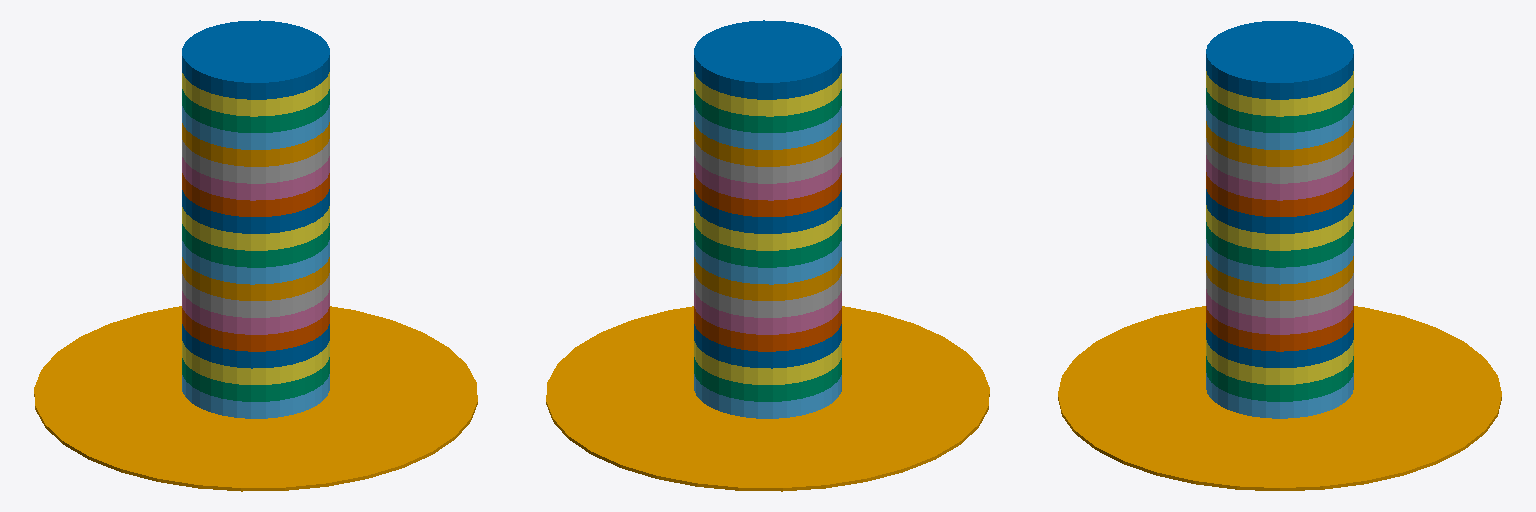
The robot description file, URDF, robot "2_pole":
<?xml version="1.0"?>

<robot name="2_pole">

    <!-- The base --> 
    <link name="base_link">
        <inertial>
            <origin xyz="0 0 0" rpy="0 0 0"/>
            <mass value="1"/>
            <inertia ixx="0.1" ixy="0.0" ixz="0.0" iyy="0.1" iyz="0.0" izz="0.1"/>
        </inertial>
        <visual>
            <origin xyz="0 0 0" rpy="0 0 0"/>
            <geometry>
                <cylinder length="0.01" radius="0.6"/>
            </geometry>
        </visual>
        <collision>
            <origin xyz="0 0 0" rpy="0 0 0"/>
            <geometry>
                <cylinder length="0.01" radius="0.6"/>
            </geometry>
        </collision>
    </link>

    <!-- 0 -->
    <link name="0_link">
        <inertial>
            <origin xyz="0 0 0" rpy="0 0 0"/>
            <mass value="1"/>
            <inertia ixx="0.01" ixy="0.0" ixz="0.0" iyy="0.01" iyz="0.0" izz="0.01"/>
        </inertial>
        <visual>
            <origin xyz="0 0 0" rpy="0 0 0"/>
            <geometry>
                <cylinder length="0.05" radius="0.2"/>
            </geometry>
        </visual>
        <collision>
            <origin xyz="0 0 0" rpy="0 0 0"/>
            <geometry>
                <cylinder length="0.05" radius="0.2"/>
            </geometry>
        </collision>
    </link>

    <!-- Joint from base to 0 -->
    <joint name="base_0_joint" type="fixed">
        <parent link="base_link"/>
        <child link="0_link"/>
        <origin xyz="0 0 0.05" rpy="0 0 0"/>
    </joint>

    <!-- 1 -->
    <link name="1_link">
        <inertial>
            <origin xyz="0 0 0" rpy="0 0 0"/>
            <mass value="1"/>
            <inertia ixx="0.01" ixy="0.0" ixz="0.0" iyy="0.01" iyz="0.0" izz="0.01"/>
        </inertial>
        <visual>
            <origin xyz="0 0 0" rpy="0 0 0"/>
            <geometry>
                <cylinder length="0.05" radius="0.2"/>
            </geometry>
        </visual>
        <collision>
            <origin xyz="0 0 0" rpy="0 0 0"/>
            <geometry>
                <cylinder length="0.05" radius="0.2"/>
            </geometry>
        </collision>
    </link>

    <!-- Joint from 0 to 1 -->
    <joint name="0_1_joint" type="fixed">
        <parent link="0_link"/>
        <child link="1_link"/>
        <origin xyz="0 0 0.05" rpy="0 0 0"/>
    </joint>

    <!-- 2 -->
    <link name="2_link">
        <inertial>
            <origin xyz="0 0 0" rpy="0 0 0"/>
            <mass value="1"/>
            <inertia ixx="0.01" ixy="0.0" ixz="0.0" iyy="0.01" iyz="0.0" izz="0.01"/>
        </inertial>
        <visual>
            <origin xyz="0 0 0" rpy="0 0 0"/>
            <geometry>
                <cylinder length="0.05" radius="0.2"/>
            </geometry>
        </visual>
        <collision>
            <origin xyz="0 0 0" rpy="0 0 0"/>
            <geometry>
                <cylinder length="0.05" radius="0.2"/>
            </geometry>
        </collision>
    </link>

    <!-- Joint from 1 to 2 -->
    <joint name="1_2_joint" type="fixed">
        <parent link="1_link"/>
        <child link="2_link"/>
        <origin xyz="0 0 0.05" rpy="0 0 0"/>
    </joint>

    <!-- 3 -->
    <link name="3_link">
        <inertial>
            <origin xyz="0 0 0" rpy="0 0 0"/>
            <mass value="1"/>
            <inertia ixx="0.01" ixy="0.0" ixz="0.0" iyy="0.01" iyz="0.0" izz="0.01"/>
        </inertial>
        <visual>
            <origin xyz="0 0 0" rpy="0 0 0"/>
            <geometry>
                <cylinder length="0.05" radius="0.2"/>
            </geometry>
        </visual>
        <collision>
            <origin xyz="0 0 0" rpy="0 0 0"/>
            <geometry>
                <cylinder length="0.05" radius="0.2"/>
            </geometry>
        </collision>
    </link>

    <!-- Joint from 2 to 3 -->
    <joint name="2_3_joint" type="fixed">
        <parent link="2_link"/>
        <child link="3_link"/>
        <origin xyz="0 0 0.05" rpy="0 0 0"/>
    </joint>

    <!-- 4 -->
    <link name="4_link">
        <inertial>
            <origin xyz="0 0 0" rpy="0 0 0"/>
            <mass value="1"/>
            <inertia ixx="0.01" ixy="0.0" ixz="0.0" iyy="0.01" iyz="0.0" izz="0.01"/>
        </inertial>
        <visual>
            <origin xyz="0 0 0" rpy="0 0 0"/>
            <geometry>
                <cylinder length="0.05" radius="0.2"/>
            </geometry>
        </visual>
        <collision>
            <origin xyz="0 0 0" rpy="0 0 0"/>
            <geometry>
                <cylinder length="0.05" radius="0.2"/>
            </geometry>
        </collision>
    </link>

    <!-- Joint from 3 to 4 -->
    <joint name="3_4_joint" type="fixed">
        <parent link="3_link"/>
        <child link="4_link"/>
        <origin xyz="0 0 0.05" rpy="0 0 0"/>
    </joint>

    <!-- 5 -->
    <link name="5_link">
        <inertial>
            <origin xyz="0 0 0" rpy="0 0 0"/>
            <mass value="1"/>
            <inertia ixx="0.01" ixy="0.0" ixz="0.0" iyy="0.01" iyz="0.0" izz="0.01"/>
        </inertial>
        <visual>
            <origin xyz="0 0 0" rpy="0 0 0"/>
            <geometry>
                <cylinder length="0.05" radius="0.2"/>
            </geometry>
        </visual>
        <collision>
            <origin xyz="0 0 0" rpy="0 0 0"/>
            <geometry>
                <cylinder length="0.05" radius="0.2"/>
            </geometry>
        </collision>
    </link>

    <!-- Joint from 4 to 5 -->
    <joint name="4_5_joint" type="fixed">
        <parent link="4_link"/>
        <child link="5_link"/>
        <origin xyz="0 0 0.05" rpy="0 0 0"/>
    </joint>

    <!-- 6 -->
    <link name="6_link">
        <inertial>
            <origin xyz="0 0 0" rpy="0 0 0"/>
            <mass value="1"/>
            <inertia ixx="0.01" ixy="0.0" ixz="0.0" iyy="0.01" iyz="0.0" izz="0.01"/>
        </inertial>
        <visual>
            <origin xyz="0 0 0" rpy="0 0 0"/>
            <geometry>
                <cylinder length="0.05" radius="0.2"/>
            </geometry>
        </visual>
        <collision>
            <origin xyz="0 0 0" rpy="0 0 0"/>
            <geometry>
                <cylinder length="0.05" radius="0.2"/>
            </geometry>
        </collision>
    </link>

    <!-- Joint from 5 to 6 -->
    <joint name="5_6_joint" type="fixed">
        <parent link="5_link"/>
        <child link="6_link"/>
        <origin xyz="0 0 0.05" rpy="0 0 0"/>
    </joint>

    <!-- 7 -->
    <link name="7_link">
        <inertial>
            <origin xyz="0 0 0" rpy="0 0 0"/>
            <mass value="1"/>
            <inertia ixx="0.01" ixy="0.0" ixz="0.0" iyy="0.01" iyz="0.0" izz="0.01"/>
        </inertial>
        <visual>
            <origin xyz="0 0 0" rpy="0 0 0"/>
            <geometry>
                <cylinder length="0.05" radius="0.2"/>
            </geometry>
        </visual>
        <collision>
            <origin xyz="0 0 0" rpy="0 0 0"/>
            <geometry>
                <cylinder length="0.05" radius="0.2"/>
            </geometry>
        </collision>
    </link>

    <!-- Joint from 6 to 7 -->
    <joint name="6_7_joint" type="fixed">
        <parent link="6_link"/>
        <child link="7_link"/>
        <origin xyz="0 0 0.05" rpy="0 0 0"/>
    </joint>

    <!-- 8 -->
    <link name="8_link">
        <inertial>
            <origin xyz="0 0 0" rpy="0 0 0"/>
            <mass value="1"/>
            <inertia ixx="0.01" ixy="0.0" ixz="0.0" iyy="0.01" iyz="0.0" izz="0.01"/>
        </inertial>
        <visual>
            <origin xyz="0 0 0" rpy="0 0 0"/>
            <geometry>
                <cylinder length="0.05" radius="0.2"/>
            </geometry>
        </visual>
        <collision>
            <origin xyz="0 0 0" rpy="0 0 0"/>
            <geometry>
                <cylinder length="0.05" radius="0.2"/>
            </geometry>
        </collision>
    </link>

    <!-- Joint from 7 to 8 -->
    <joint name="7_8_joint" type="fixed">
        <parent link="7_link"/>
        <child link="8_link"/>
        <origin xyz="0 0 0.05" rpy="0 0 0"/>
    </joint>

    <!-- 9 -->
    <link name="9_link">
        <inertial>
            <origin xyz="0 0 0" rpy="0 0 0"/>
            <mass value="1"/>
            <inertia ixx="0.01" ixy="0.0" ixz="0.0" iyy="0.01" iyz="0.0" izz="0.01"/>
        </inertial>
        <visual>
            <origin xyz="0 0 0" rpy="0 0 0"/>
            <geometry>
                <cylinder length="0.05" radius="0.2"/>
            </geometry>
        </visual>
        <collision>
            <origin xyz="0 0 0" rpy="0 0 0"/>
            <geometry>
                <cylinder length="0.05" radius="0.2"/>
            </geometry>
        </collision>
    </link>

    <!-- Joint from 8 to 9 -->
    <joint name="8_9_joint" type="fixed">
        <parent link="8_link"/>
        <child link="9_link"/>
        <origin xyz="0 0 0.05" rpy="0 0 0"/>
    </joint>

    <!-- 10 -->
    <link name="10_link">
        <inertial>
            <origin xyz="0 0 0" rpy="0 0 0"/>
            <mass value="1"/>
            <inertia ixx="0.01" ixy="0.0" ixz="0.0" iyy="0.01" iyz="0.0" izz="0.01"/>
        </inertial>
        <visual>
            <origin xyz="0 0 0" rpy="0 0 0"/>
            <geometry>
                <cylinder length="0.05" radius="0.2"/>
            </geometry>
        </visual>
        <collision>
            <origin xyz="0 0 0" rpy="0 0 0"/>
            <geometry>
                <cylinder length="0.05" radius="0.2"/>
            </geometry>
        </collision>
    </link>

    <!-- Joint from 9 to 10 -->
    <joint name="9_10_joint" type="fixed">
        <parent link="9_link"/>
        <child link="10_link"/>
        <origin xyz="0 0 0.05" rpy="0 0 0"/>
    </joint>

    <!-- 11 -->
    <link name="11_link">
        <inertial>
            <origin xyz="0 0 0" rpy="0 0 0"/>
            <mass value="1"/>
            <inertia ixx="0.01" ixy="0.0" ixz="0.0" iyy="0.01" iyz="0.0" izz="0.01"/>
        </inertial>
        <visual>
            <origin xyz="0 0 0" rpy="0 0 0"/>
            <geometry>
                <cylinder length="0.05" radius="0.2"/>
            </geometry>
        </visual>
        <collision>
            <origin xyz="0 0 0" rpy="0 0 0"/>
            <geometry>
                <cylinder length="0.05" radius="0.2"/>
            </geometry>
        </collision>
    </link>

    <!-- Joint from 10 to 11 -->
    <joint name="10_11_joint" type="fixed">
        <parent link="10_link"/>
        <child link="11_link"/>
        <origin xyz="0 0 0.05" rpy="0 0 0"/>
    </joint>

    <!-- 12 -->
    <link name="12_link">
        <inertial>
            <origin xyz="0 0 0" rpy="0 0 0"/>
            <mass value="1"/>
            <inertia ixx="0.01" ixy="0.0" ixz="0.0" iyy="0.01" iyz="0.0" izz="0.01"/>
        </inertial>
        <visual>
            <origin xyz="0 0 0" rpy="0 0 0"/>
            <geometry>
                <cylinder length="0.05" radius="0.2"/>
            </geometry>
        </visual>
        <collision>
            <origin xyz="0 0 0" rpy="0 0 0"/>
            <geometry>
                <cylinder length="0.05" radius="0.2"/>
            </geometry>
        </collision>
    </link>

    <!-- Joint from 11 to 12 -->
    <joint name="11_12_joint" type="fixed">
        <parent link="11_link"/>
        <child link="12_link"/>
        <origin xyz="0 0 0.05" rpy="0 0 0"/>
    </joint>

    <!-- 13 -->
    <link name="13_link">
        <inertial>
            <origin xyz="0 0 0" rpy="0 0 0"/>
            <mass value="1"/>
            <inertia ixx="0.01" ixy="0.0" ixz="0.0" iyy="0.01" iyz="0.0" izz="0.01"/>
        </inertial>
        <visual>
            <origin xyz="0 0 0" rpy="0 0 0"/>
            <geometry>
                <cylinder length="0.05" radius="0.2"/>
            </geometry>
        </visual>
        <collision>
            <origin xyz="0 0 0" rpy="0 0 0"/>
            <geometry>
                <cylinder length="0.05" radius="0.2"/>
            </geometry>
        </collision>
    </link>

    <!-- Joint from 12 to 13 -->
    <joint name="12_13_joint" type="fixed">
        <parent link="12_link"/>
        <child link="13_link"/>
        <origin xyz="0 0 0.05" rpy="0 0 0"/>
    </joint>

    <!-- 14 -->
    <link name="14_link">
        <inertial>
            <origin xyz="0 0 0" rpy="0 0 0"/>
            <mass value="1"/>
            <inertia ixx="0.01" ixy="0.0" ixz="0.0" iyy="0.01" iyz="0.0" izz="0.01"/>
        </inertial>
        <visual>
            <origin xyz="0 0 0" rpy="0 0 0"/>
            <geometry>
                <cylinder length="0.05" radius="0.2"/>
            </geometry>
        </visual>
        <collision>
            <origin xyz="0 0 0" rpy="0 0 0"/>
            <geometry>
                <cylinder length="0.05" radius="0.2"/>
            </geometry>
        </collision>
    </link>

    <!-- Joint from 13 to 14 -->
    <joint name="13_14_joint" type="fixed">
        <parent link="13_link"/>
        <child link="14_link"/>
        <origin xyz="0 0 0.05" rpy="0 0 0"/>
    </joint>

    <!-- 15 -->
    <link name="15_link">
        <inertial>
            <origin xyz="0 0 0" rpy="0 0 0"/>
            <mass value="1"/>
            <inertia ixx="0.01" ixy="0.0" ixz="0.0" iyy="0.01" iyz="0.0" izz="0.01"/>
        </inertial>
        <visual>
            <origin xyz="0 0 0" rpy="0 0 0"/>
            <geometry>
                <cylinder length="0.05" radius="0.2"/>
            </geometry>
        </visual>
        <collision>
            <origin xyz="0 0 0" rpy="0 0 0"/>
            <geometry>
                <cylinder length="0.05" radius="0.2"/>
            </geometry>
        </collision>
    </link>

    <!-- Joint from 14 to 15 -->
    <joint name="14_15_joint" type="fixed">
        <parent link="14_link"/>
        <child link="15_link"/>
        <origin xyz="0 0 0.05" rpy="0 0 0"/>
    </joint>

    <!-- 16 -->
    <link name="16_link">
        <inertial>
            <origin xyz="0 0 0" rpy="0 0 0"/>
            <mass value="1"/>
            <inertia ixx="0.01" ixy="0.0" ixz="0.0" iyy="0.01" iyz="0.0" izz="0.01"/>
        </inertial>
        <visual>
            <origin xyz="0 0 0" rpy="0 0 0"/>
            <geometry>
                <cylinder length="0.05" radius="0.2"/>
            </geometry>
        </visual>
        <collision>
            <origin xyz="0 0 0" rpy="0 0 0"/>
            <geometry>
                <cylinder length="0.05" radius="0.2"/>
            </geometry>
        </collision>
    </link>

    <!-- Joint from 15 to 16 -->
    <joint name="15_16_joint" type="fixed">
        <parent link="15_link"/>
        <child link="16_link"/>
        <origin xyz="0 0 0.05" rpy="0 0 0"/>
    </joint>

    <!-- 17 -->
    <link name="17_link">
        <inertial>
            <origin xyz="0 0 0" rpy="0 0 0"/>
            <mass value="1"/>
            <inertia ixx="0.01" ixy="0.0" ixz="0.0" iyy="0.01" iyz="0.0" izz="0.01"/>
        </inertial>
        <visual>
            <origin xyz="0 0 0" rpy="0 0 0"/>
            <geometry>
                <cylinder length="0.05" radius="0.2"/>
            </geometry>
        </visual>
        <collision>
            <origin xyz="0 0 0" rpy="0 0 0"/>
            <geometry>
                <cylinder length="0.05" radius="0.2"/>
            </geometry>
        </collision>
    </link>

    <!-- Joint from 16 to 17 -->
    <joint name="16_17_joint" type="fixed">
        <parent link="16_link"/>
        <child link="17_link"/>
        <origin xyz="0 0 0.05" rpy="0 0 0"/>
    </joint>

    <!-- 18 -->
    <link name="18_link">
        <inertial>
            <origin xyz="0 0 0" rpy="0 0 0"/>
            <mass value="1"/>
            <inertia ixx="0.01" ixy="0.0" ixz="0.0" iyy="0.01" iyz="0.0" izz="0.01"/>
        </inertial>
        <visual>
            <origin xyz="0 0 0" rpy="0 0 0"/>
            <geometry>
                <cylinder length="0.05" radius="0.2"/>
            </geometry>
        </visual>
        <collision>
            <origin xyz="0 0 0" rpy="0 0 0"/>
            <geometry>
                <cylinder length="0.05" radius="0.2"/>
            </geometry>
        </collision>
    </link>

    <!-- Joint from 17 to 18 -->
    <joint name="17_18_joint" type="fixed">
        <parent link="17_link"/>
        <child link="18_link"/>
        <origin xyz="0 0 0.05" rpy="0 0 0"/>
    </joint>

    <!-- 19 -->
    <link name="19_link">
        <inertial>
            <origin xyz="0 0 0" rpy="0 0 0"/>
            <mass value="1"/>
            <inertia ixx="0.01" ixy="0.0" ixz="0.0" iyy="0.01" iyz="0.0" izz="0.01"/>
        </inertial>
        <visual>
            <origin xyz="0 0 0" rpy="0 0 0"/>
            <geometry>
                <cylinder length="0.05" radius="0.2"/>
            </geometry>
        </visual>
        <collision>
            <origin xyz="0 0 0" rpy="0 0 0"/>
            <geometry>
                <cylinder length="0.05" radius="0.2"/>
            </geometry>
        </collision>
    </link>

    <!-- Joint from 18 to 19 -->
    <joint name="18_19_joint" type="fixed">
        <parent link="18_link"/>
        <child link="19_link"/>
        <origin xyz="0 0 0.05" rpy="0 0 0"/>
    </joint>

</robot>

--- Render facts (derived) ---
3 views of the same robot in one strip: view 1: azimuth 30°, elevation 25°; view 2: azimuth 150°, elevation 25°; view 3: azimuth 270°, elevation 25° (orthographic).
Model 2_pole with 21 links and 20 joints (20 fixed), rooted at base_link, posed all joints at 0.
Visible links, largest first — view 1: base_link, 19_link, 9_link, 2_link, 16_link, 0_link, 5_link, 10_link, 11_link, 14_link, 4_link, 1_link (+9 smaller); view 2: base_link, 19_link, 9_link, 2_link, 16_link, 0_link, 5_link, 10_link, 11_link, 14_link, 4_link, 1_link (+9 smaller); view 3: base_link, 19_link, 12_link, 1_link, 15_link, 7_link, 10_link, 0_link, 2_link, 3_link, 5_link, 6_link (+9 smaller).
Link boxes in pixels (x1,y1,x2,y2): base_link: (34, 306, 477, 491); 19_link: (182, 20, 329, 99); 9_link: (182, 223, 329, 267); 2_link: (182, 341, 329, 384); 16_link: (182, 105, 329, 149); 0_link: (182, 374, 329, 418); 5_link: (182, 290, 329, 334); 10_link: (182, 206, 329, 250); 11_link: (182, 189, 329, 233); 14_link: (182, 139, 329, 183); 4_link: (182, 307, 329, 351); 1_link: (182, 357, 329, 401); base_link: (546, 306, 989, 491); 19_link: (694, 20, 841, 99); 9_link: (694, 223, 841, 267); 2_link: (694, 341, 841, 384); 16_link: (694, 105, 841, 149); 0_link: (694, 374, 841, 418); 5_link: (694, 290, 841, 334); 10_link: (694, 206, 841, 250); 11_link: (694, 189, 841, 233); 14_link: (694, 139, 841, 183); 4_link: (694, 307, 841, 351); 1_link: (694, 357, 841, 401); base_link: (1058, 306, 1501, 490); 19_link: (1206, 21, 1353, 99); 12_link: (1206, 172, 1353, 216); 1_link: (1206, 356, 1353, 401); 15_link: (1206, 121, 1353, 166); 7_link: (1206, 256, 1353, 300); 10_link: (1206, 205, 1353, 250); 0_link: (1206, 373, 1353, 418); 2_link: (1206, 340, 1353, 384); 3_link: (1206, 323, 1353, 367); 5_link: (1206, 289, 1353, 334); 6_link: (1206, 273, 1353, 317).
Size in the robot's own frame: 1.2 by 1.2 by 1.03 metres.
Geometry: primitives only (box / cylinder / sphere), no mesh files.
